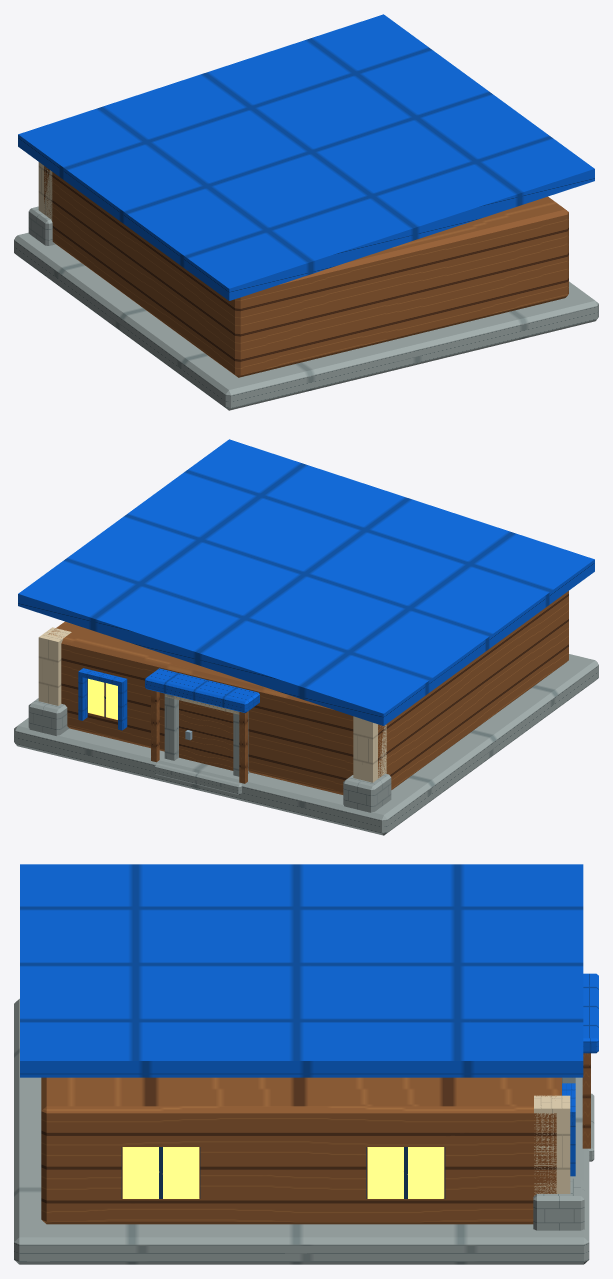
File: bld-logging-hut-2x2.glb
3 views of the same model, one above another, from view 1: azimuth 30°, elevation 25°; view 2: azimuth 150°, elevation 25°; view 3: azimuth 270°, elevation 25° (orthographic). The views are drawn at different scales.
Parts seen in each view (by area): view 1: bld-logging-hut-2x2; view 2: bld-logging-hut-2x2; view 3: bld-logging-hut-2x2.
Part boxes in pixels (x1,y1,x2,y2): bld-logging-hut-2x2: (14, 14, 598, 410); bld-logging-hut-2x2: (14, 439, 598, 835); bld-logging-hut-2x2: (14, 864, 598, 1264).
Size of the model in its own units: 1.9 by 0.741 by 1.93.
1 material, 1 textured.
